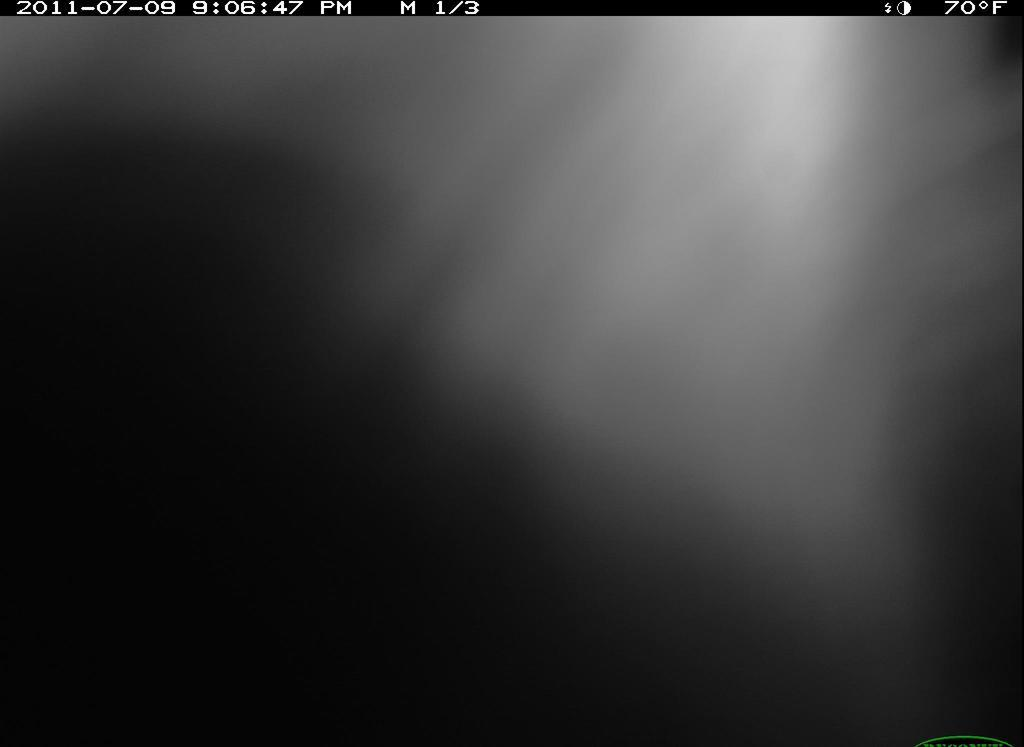raccoon: (75, 8, 1018, 619)
